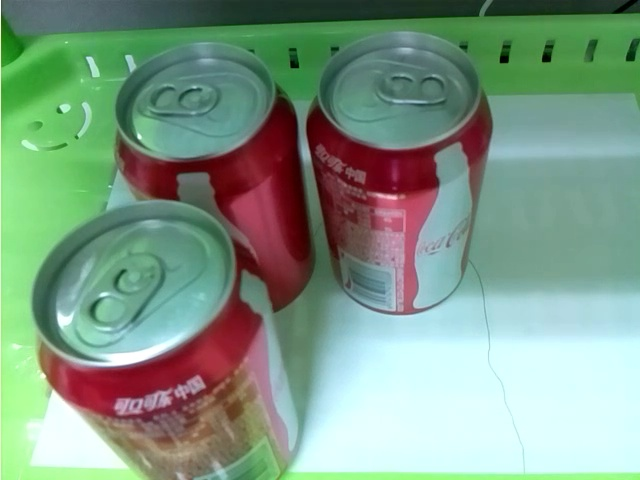cocacola: (31, 200, 300, 480), (298, 28, 496, 318), (119, 41, 316, 305)
